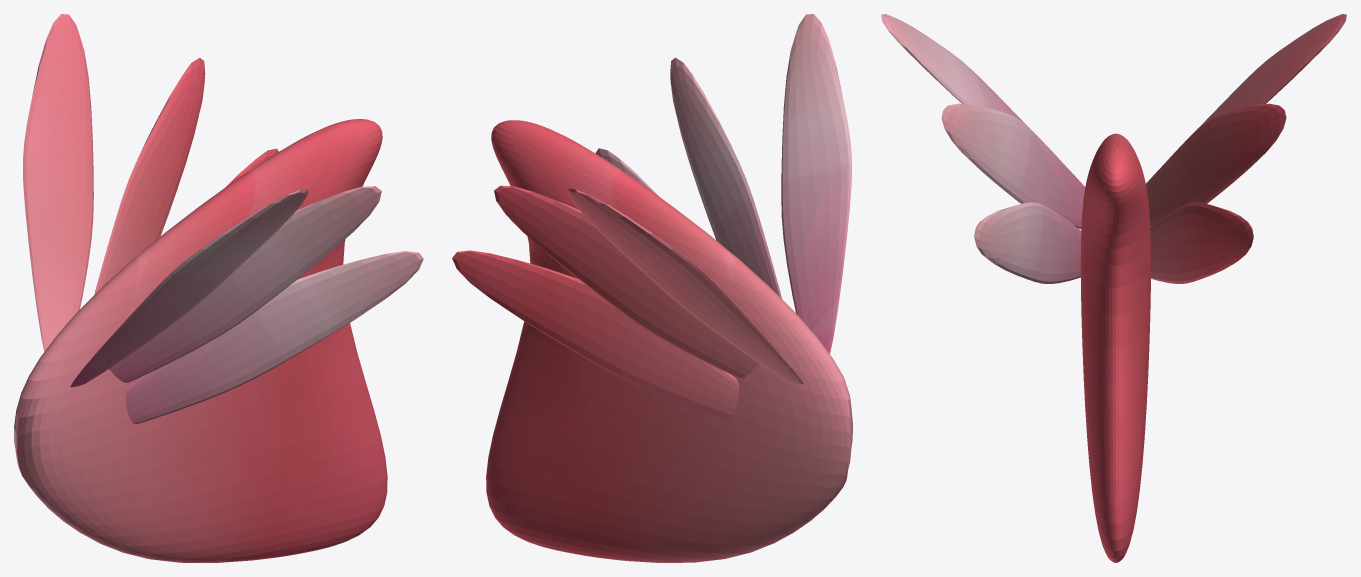
Rendered from pinkfish tail.fbx.
The picture shows the model from 3 angles, left to right: view 1: azimuth 30°, elevation 25°; view 2: azimuth 150°, elevation 25°; view 3: azimuth 270°, elevation 25°; orthographic projection. The views are drawn at different scales.
Parts seen in each view (by area): view 1: Sphere.011; view 2: Sphere.011; view 3: Sphere.011.
Part boxes in pixels (x1,y1,x2,y2): Sphere.011: (14,14,423,562); Sphere.011: (452,14,852,562); Sphere.011: (881,14,1346,562).
Size of the model in its own units: 116 by 145 by 130.
Materials: 1 (1 with a texture image).
